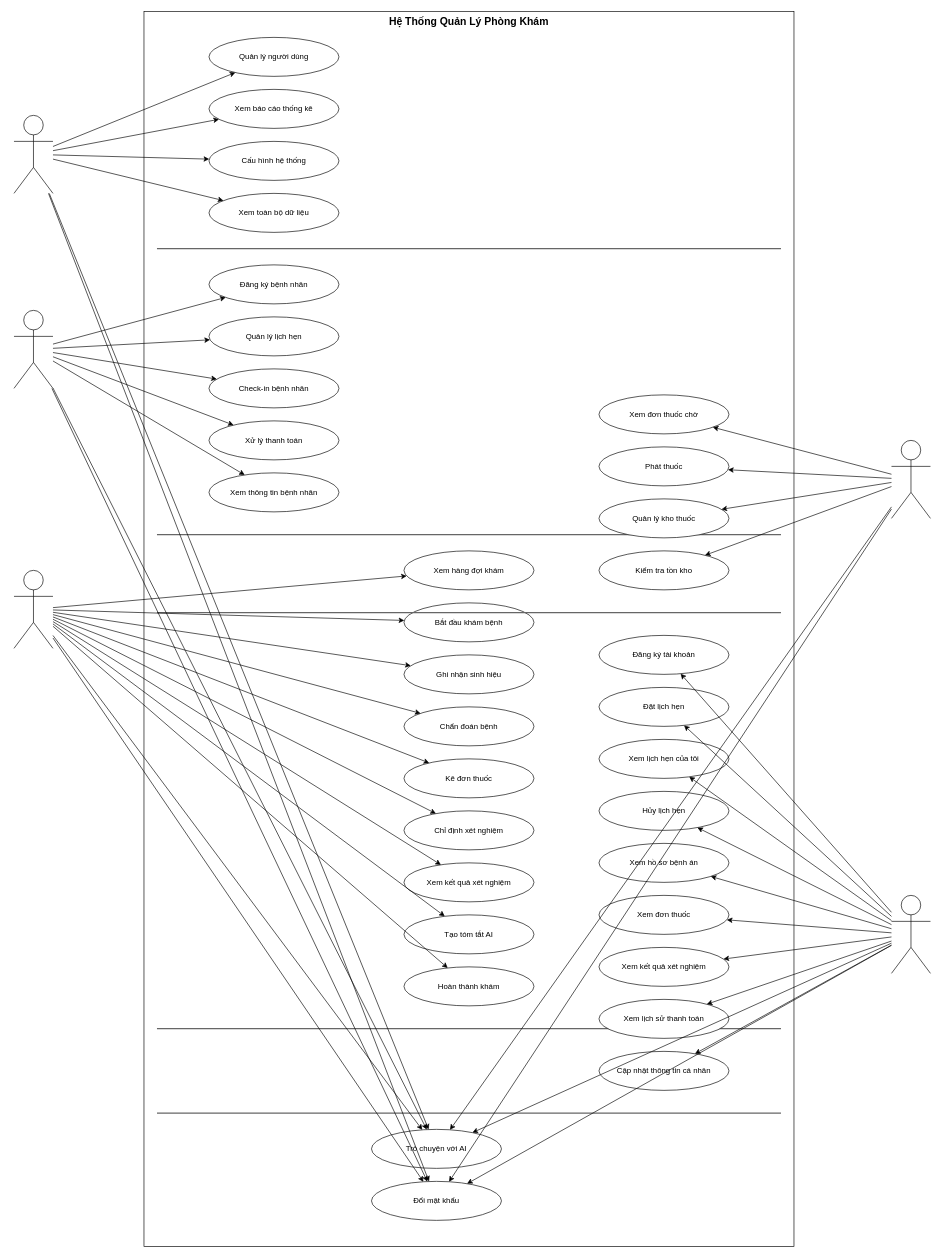
This 942x1258 diagram has some shape labels left out. The shapes that lost their labels are listed below. From the top down, each one's centre as x and y in pixels, then its label:
[33,154]: Quản trị viên
[33,349]: Lễ tân
[910,479]: Dược sĩ
[33,609]: Bác sĩ
[910,934]: Bệnh nhân
